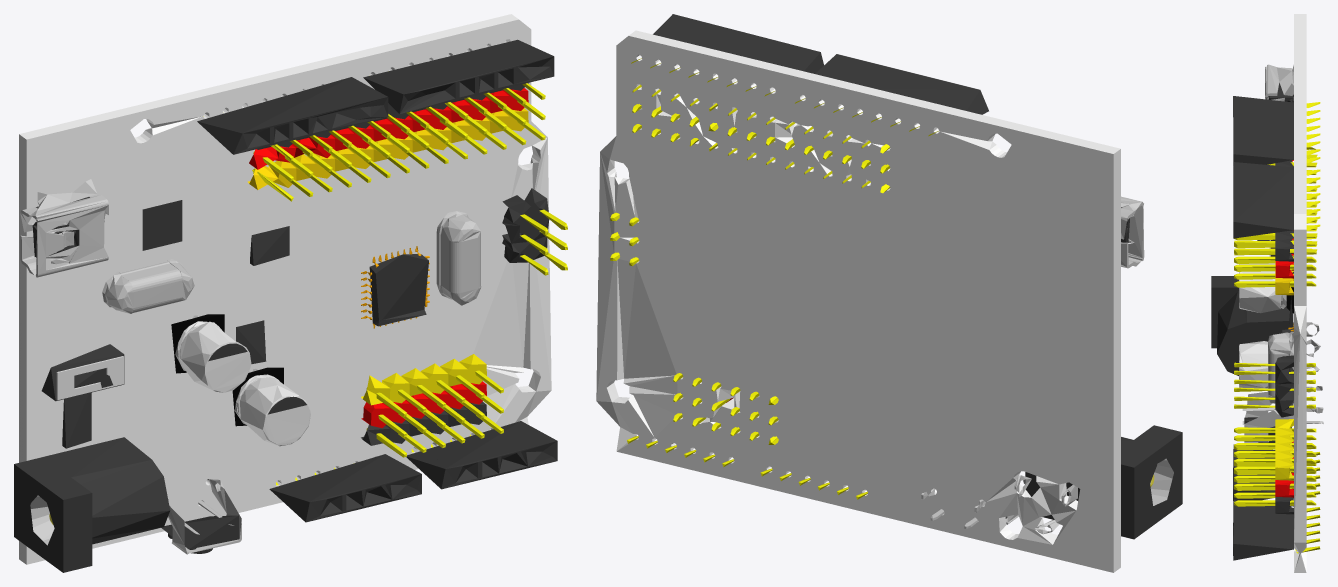
File: arduino-uno.glb
3 views of the same model, side by side, from view 1: azimuth 30°, elevation 25°; view 2: azimuth 150°, elevation 25°; view 3: azimuth 270°, elevation 25° (orthographic). The views are drawn at different scales.
Visible parts, largest first — view 1: part13, part11, part7, part10, part12, part1, part8, part9, part0, part3, part2; view 2: part13, part11, part12, part7; view 3: part11, part12, part13, part7, part1, part0, part10, part8, part9.
Part boxes in pixels (bbox=[...]): part13: bbox=[19, 14, 551, 564]; part11: bbox=[14, 39, 557, 572]; part7: bbox=[20, 179, 481, 554]; part10: bbox=[32, 83, 528, 448]; part12: bbox=[203, 83, 567, 485]; part1: bbox=[175, 321, 310, 446]; part8: bbox=[249, 88, 528, 428]; part9: bbox=[247, 108, 528, 189]; part0: bbox=[361, 354, 486, 405]; part3: bbox=[56, 356, 123, 400]; part2: bbox=[171, 314, 283, 426]; part13: bbox=[596, 30, 1120, 572]; part11: bbox=[653, 14, 1182, 539]; part12: bbox=[610, 58, 938, 499]; part7: bbox=[921, 196, 1173, 534]; part11: bbox=[1211, 96, 1293, 560]; part12: bbox=[1234, 102, 1320, 553]; part13: bbox=[1294, 14, 1306, 572]; part7: bbox=[1242, 64, 1323, 442]; part1: bbox=[1239, 263, 1286, 388]; part0: bbox=[1275, 419, 1293, 480]; part10: bbox=[1257, 82, 1293, 333]; part8: bbox=[1275, 160, 1293, 497]; part9: bbox=[1275, 239, 1293, 295].
Bounding box in the file's own units: 0.0706 × 0.0546 × 0.0153.
